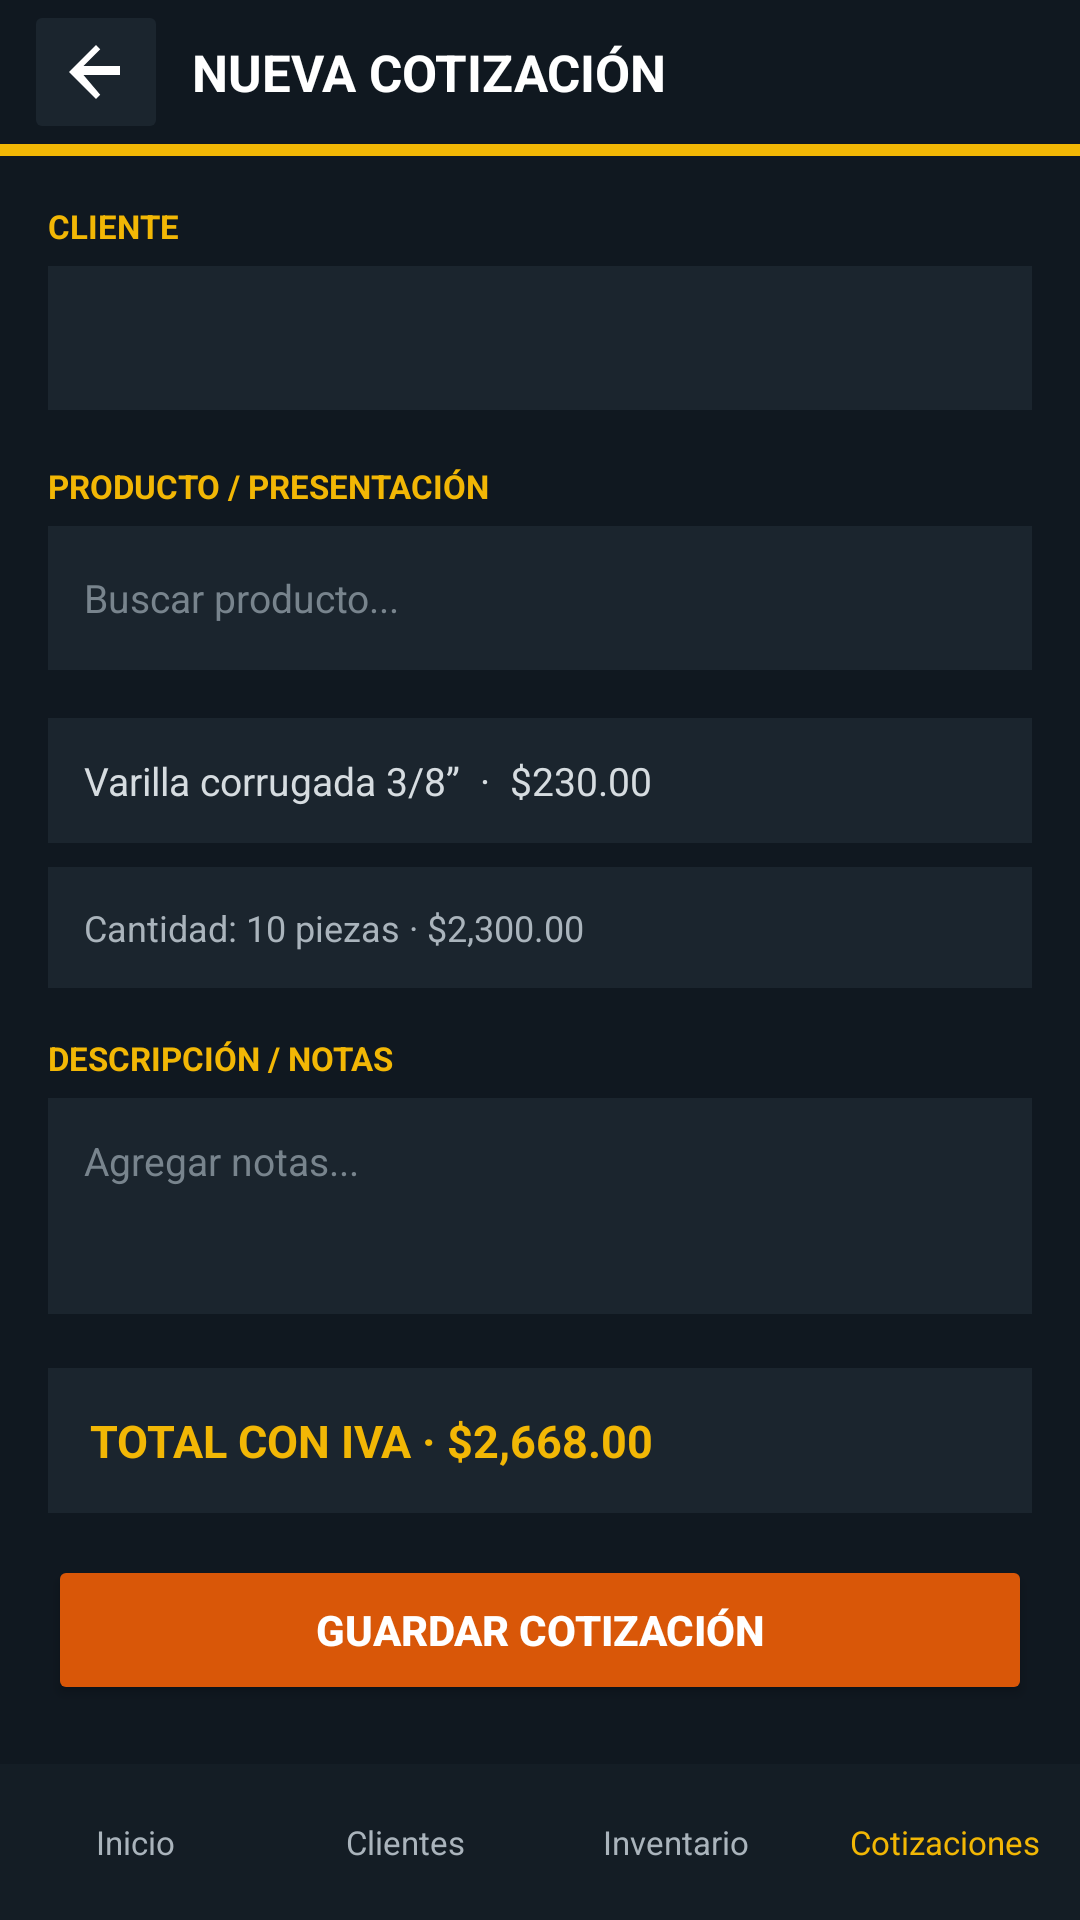

Icon click points for this 1080px×1920px phone screenshot, format point (x, y):
Volver: point (96, 72)
